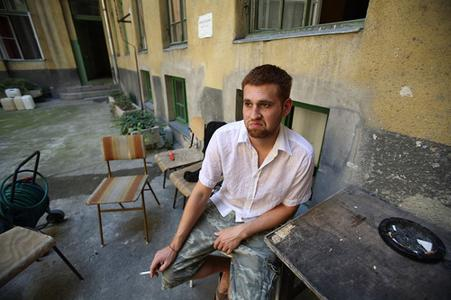person: (148, 62, 319, 300)
